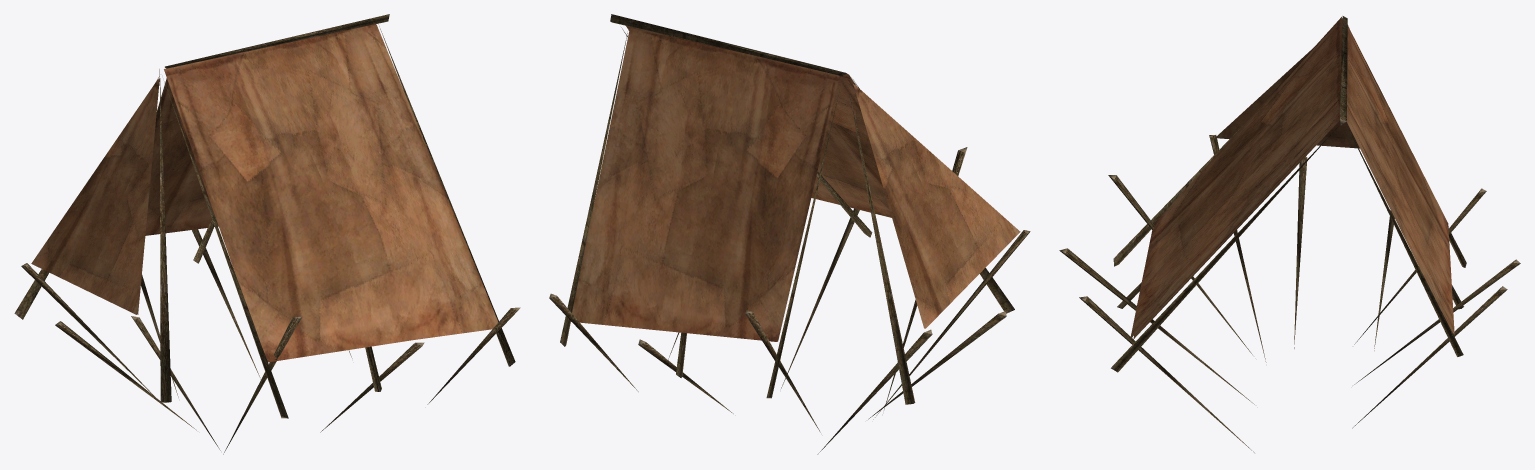
Rendered from poi_all_lair_wooden_l3.fbx.
3 views of the same model, side by side, from view 1: azimuth 30°, elevation 25°; view 2: azimuth 150°, elevation 25°; view 3: azimuth 270°, elevation 25° (orthographic). The views are drawn at different scales.
Parts seen in each view (by area): view 1: mesh_node; view 2: mesh_node; view 3: mesh_node.
Boxes of the visible parts, x1=… form: mesh_node: x1=14, y1=14, x2=520, y2=454; mesh_node: x1=549, y1=14, x2=1030, y2=454; mesh_node: x1=1059, y1=16, x2=1520, y2=452.
Size of the model in its own units: 8.12 by 7.79 by 9.53.
